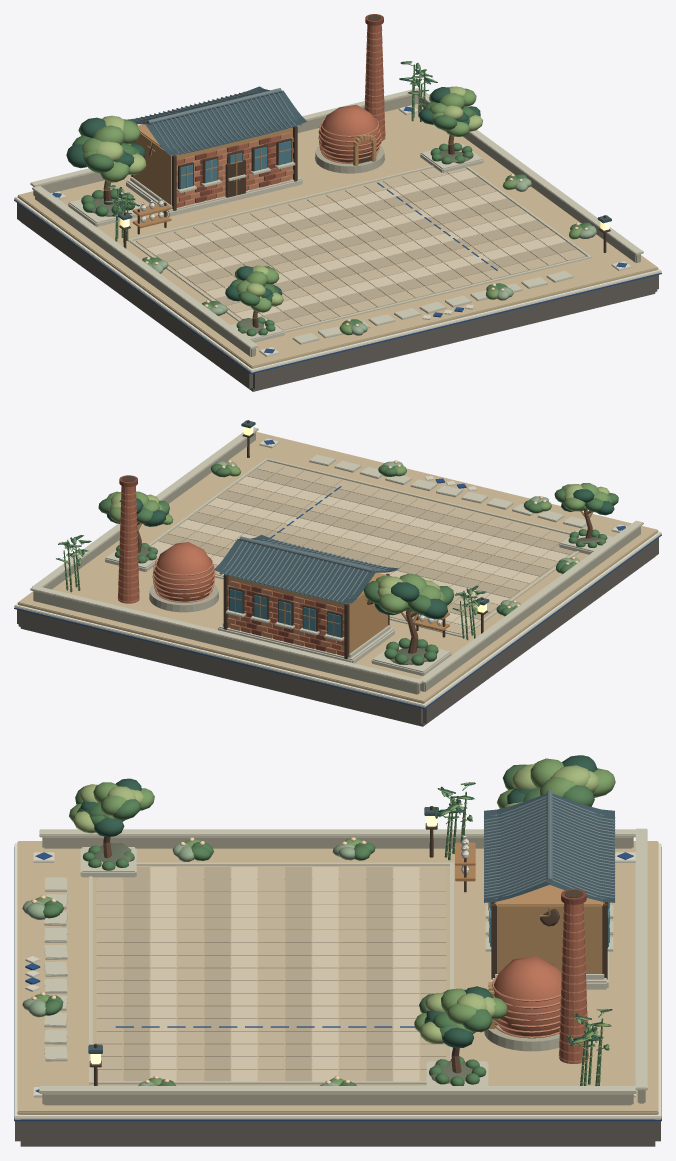
Rendered from guyao.glb.
The picture shows the model from 3 angles, top to bottom: view 1: azimuth 30°, elevation 25°; view 2: azimuth 150°, elevation 25°; view 3: azimuth 270°, elevation 25°; orthographic projection. The views are drawn at different scales.
Visible parts, largest first — view 1: Garden ground, Individual courtyard flagstone, Courtyard border, Individual courtyard flagstone.001, Individual courtyard flagstone.002, 20 × 20 square island, Low stone garden wall, Handmade facade brick, Sweeping tiled roof, Mounded planting.001, Mounded planting.002, Raised roof tile seam (+12 smaller); view 2: Garden ground, Courtyard border, 20 × 20 square island, Individual courtyard flagstone, Individual courtyard flagstone.002, Individual courtyard flagstone.001, Low stone garden wall, Handmade facade brick, Sweeping tiled roof, Mounded planting.001, Raised roof tile seam, Porcelain perimeter band (+12 smaller); view 3: Garden ground, Individual courtyard flagstone, Individual courtyard flagstone.002, Individual courtyard flagstone.001, Courtyard border, 20 × 20 square island, Low stone garden wall, Raised roof tile seam, Handmade facade brick, Sweeping tiled roof, Mounded planting.001, Kiln hall walls (+11 smaller).
Boxes of the visible parts, x1,y1,x2,y2 form: Garden ground: [17, 104, 658, 368]; Individual courtyard flagstone: [136, 168, 585, 330]; Courtyard border: [30, 88, 643, 349]; Individual courtyard flagstone.001: [146, 170, 565, 319]; Individual courtyard flagstone.002: [156, 177, 575, 322]; 20 × 20 square island: [17, 203, 658, 391]; Low stone garden wall: [33, 94, 640, 356]; Handmade facade brick: [176, 24, 385, 207]; Sweeping tiled roof: [118, 86, 611, 223]; Mounded planting.001: [72, 64, 592, 336]; Mounded planting.002: [78, 62, 582, 335]; Raised roof tile seam: [132, 88, 301, 156]; Garden ground: [17, 432, 658, 703]; Courtyard border: [30, 427, 643, 684]; 20 × 20 square island: [17, 538, 658, 726]; Individual courtyard flagstone: [168, 461, 569, 634]; Individual courtyard flagstone.002: [158, 469, 574, 619]; Individual courtyard flagstone.001: [151, 476, 568, 627]; Low stone garden wall: [33, 432, 640, 694]; Handmade facade brick: [118, 486, 344, 656]; Sweeping tiled roof: [213, 420, 489, 605]; Mounded planting.001: [62, 464, 618, 665]; Raised roof tile seam: [219, 536, 389, 604]; Porcelain perimeter band: [14, 531, 661, 707]; Garden ground: [17, 841, 658, 1114]; Individual courtyard flagstone: [96, 867, 446, 1081]; Individual courtyard flagstone.002: [123, 867, 392, 1081]; Individual courtyard flagstone.001: [150, 867, 419, 1081]; Courtyard border: [39, 828, 647, 1093]; 20 × 20 square island: [15, 1119, 660, 1146]; Low stone garden wall: [42, 837, 645, 1105]; Raised roof tile seam: [484, 790, 615, 901]; Handmade facade brick: [494, 902, 604, 1063]; Sweeping tiled roof: [88, 794, 614, 1053]; Mounded planting.001: [43, 764, 609, 1085]; Kiln hall walls: [488, 885, 602, 1028].
Size of the model in its own units: 20.06 by 6.88 by 20.06.
